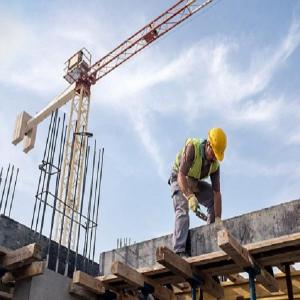yellow: (208, 128, 228, 164)
